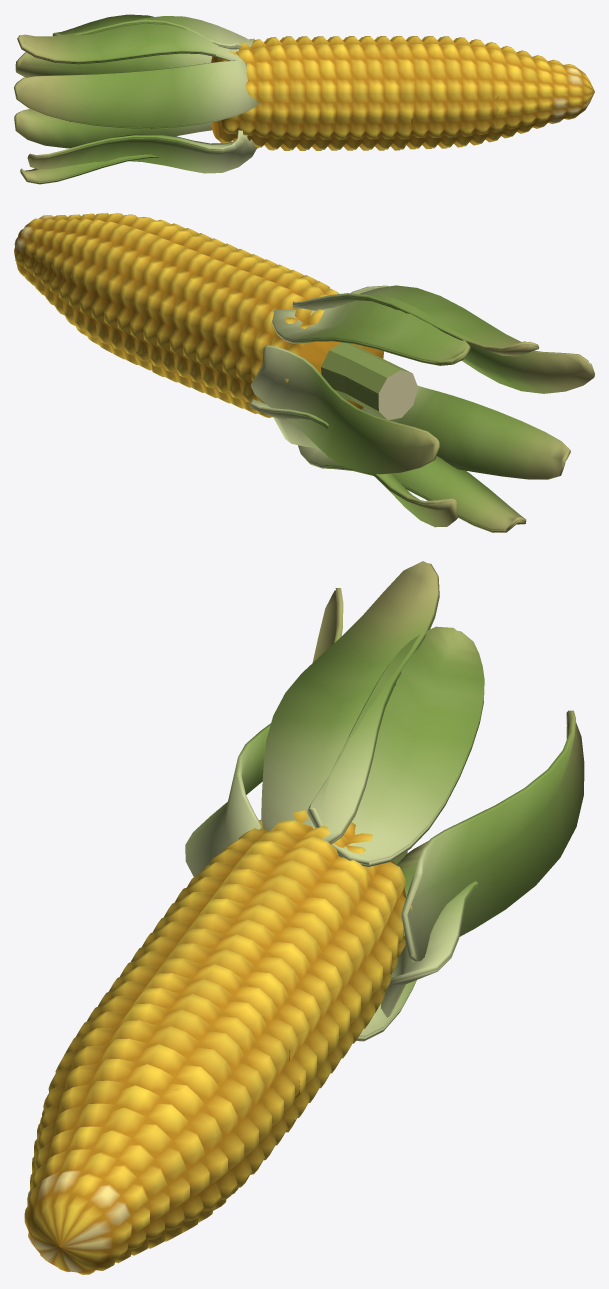
Rendered from corn_held.glb.
The picture shows the model from 3 angles, top to bottom: view 1: azimuth 30°, elevation 25°; view 2: azimuth 150°, elevation 25°; view 3: azimuth 270°, elevation 25°; orthographic projection. The views are drawn at different scales.
Visible parts, largest first — view 1: eat_0_Cob, eat_0_Husk, eat_2_Husk, eat_2_Cob, eat_1_Cob; view 2: eat_0_Cob, eat_0_Husk, eat_2_Husk, eat_2_Cob, eat_2_Stalk, eat_0_Stalk, eat_1_Cob; view 3: eat_0_Cob, eat_0_Husk, eat_2_Husk, eat_2_Cob, eat_1_Cob.
Boxes of the visible parts, <box> form: eat_0_Cob: <box>211,36,594,149</box>; eat_0_Husk: <box>14,14,258,182</box>; eat_2_Husk: <box>14,22,258,184</box>; eat_2_Cob: <box>211,81,414,150</box>; eat_1_Cob: <box>211,36,500,148</box>; eat_0_Cob: <box>14,213,383,408</box>; eat_0_Husk: <box>250,285,594,530</box>; eat_2_Husk: <box>250,289,594,532</box>; eat_2_Cob: <box>130,278,383,417</box>; eat_2_Stalk: <box>321,368,417,419</box>; eat_0_Stalk: <box>321,342,417,394</box>; eat_1_Cob: <box>60,214,382,407</box>; eat_0_Cob: <box>24,810,412,1274</box>; eat_0_Husk: <box>185,561,584,1036</box>; eat_2_Husk: <box>185,590,584,1041</box>; eat_2_Cob: <box>106,881,412,1132</box>; eat_1_Cob: <box>42,820,400,1223</box>.
Size of the model in its own units: 0.2533 by 0.0701 by 0.1201.
